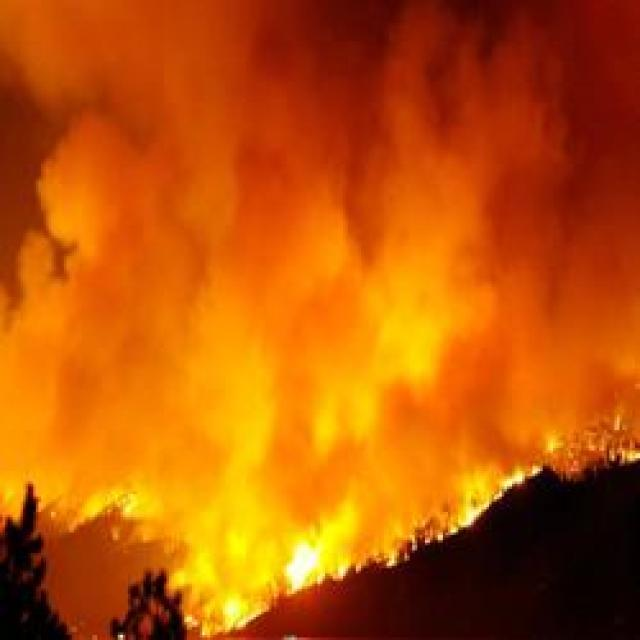Fire: (4, 13, 640, 439), (0, 396, 640, 636)
